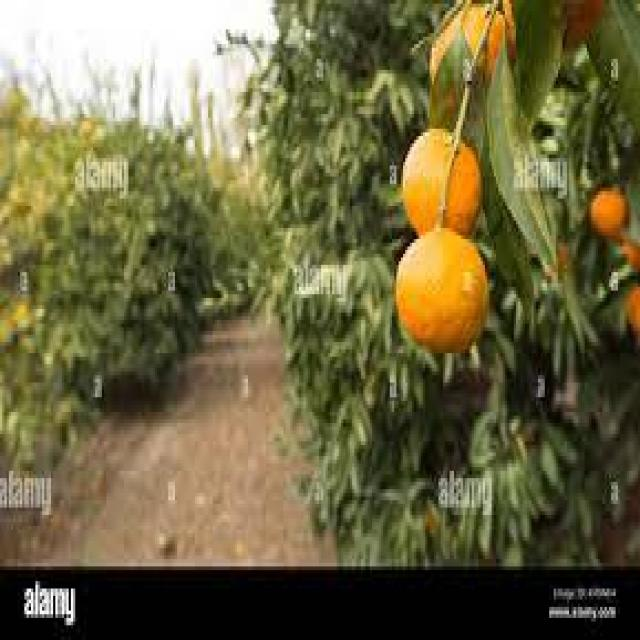fruit: (391, 224, 492, 366), (429, 6, 515, 145), (400, 132, 486, 246), (512, 0, 606, 84), (588, 183, 632, 251), (621, 280, 640, 341)
